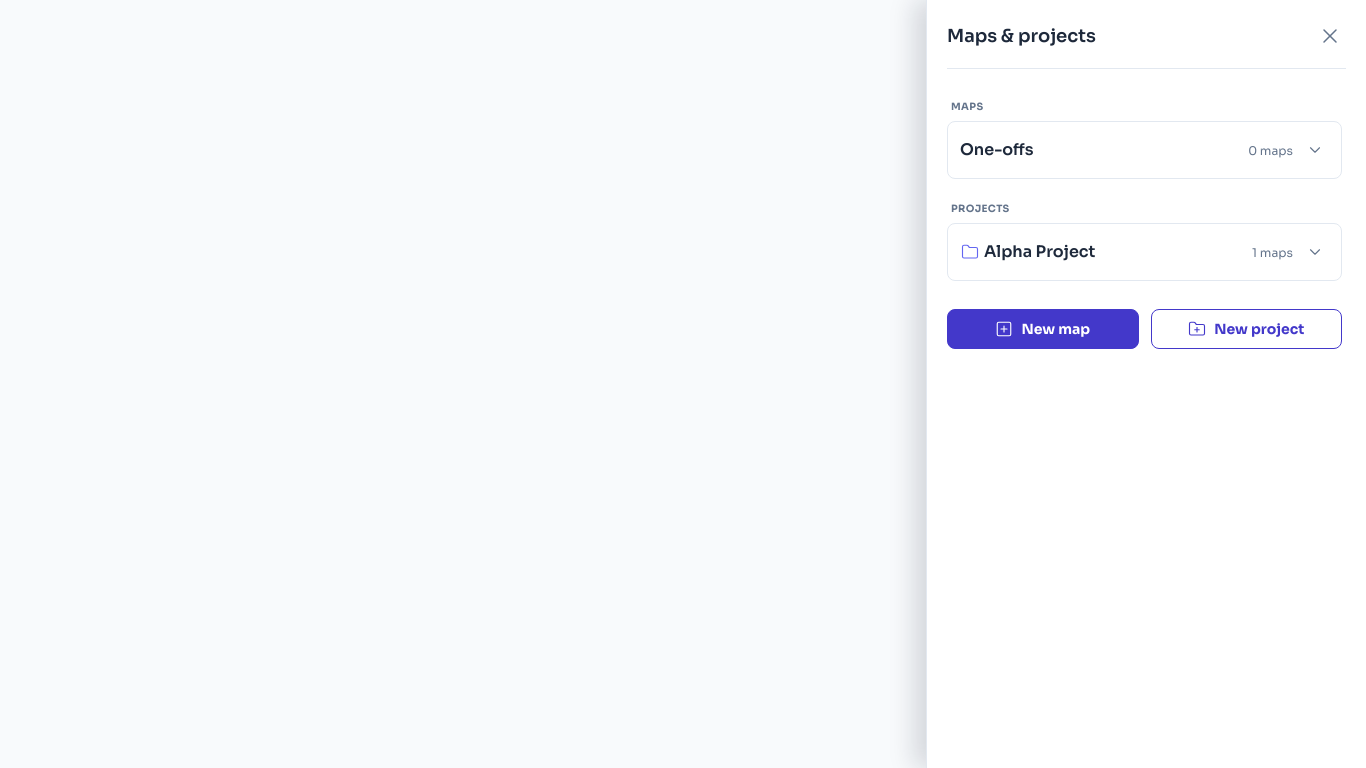
ProjectsModal › uses global new-map action and keeps delete inside the expanded body
The width and height of the screenshot is (1366, 768).
Expected: the element with class "ui-accordion" showing "Alpha Project 1 maps" is shown, 947,223 -> 1342,281
Expected: the text "Delete project" is not shown
Click the button "New map". click: (1043, 329)
box: 947,309 -> 1138,349
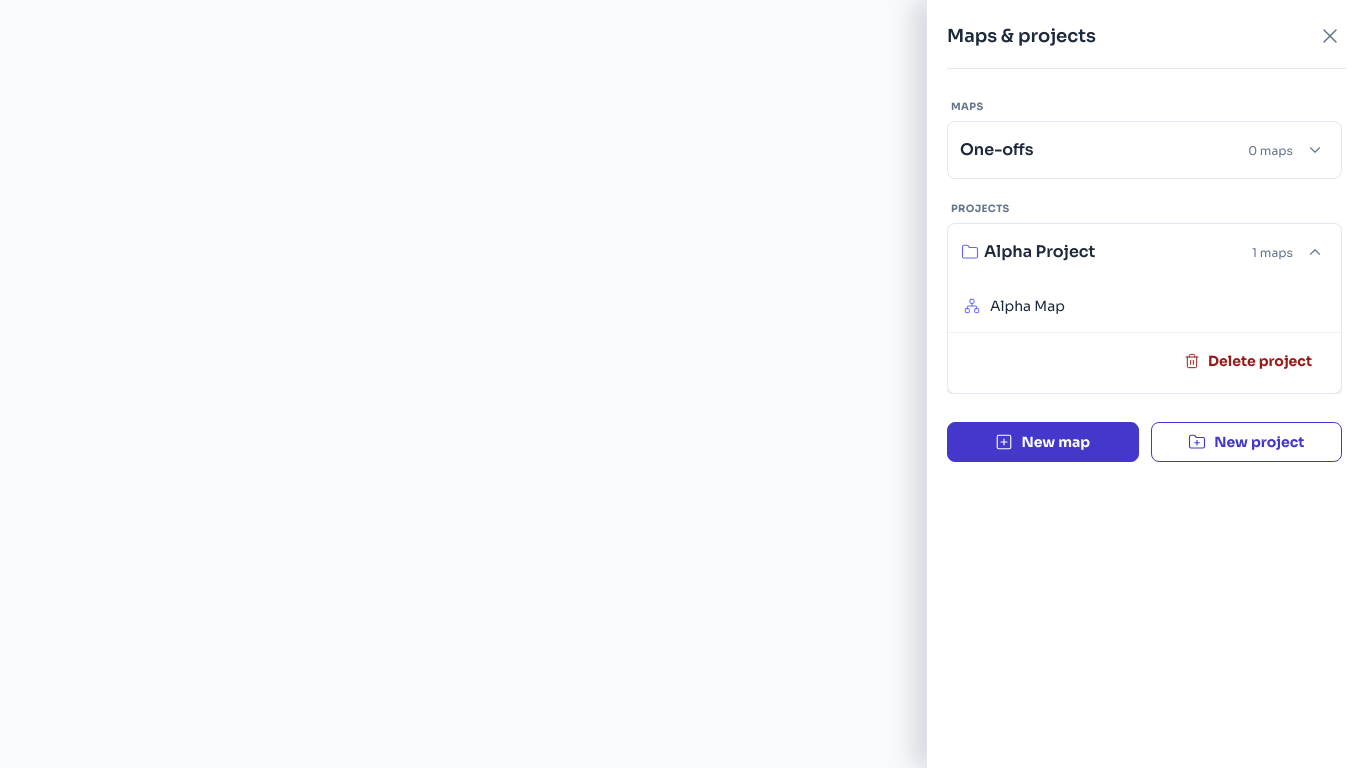
Now the text "Delete project" is shown, box 1208,351 -> 1312,371
